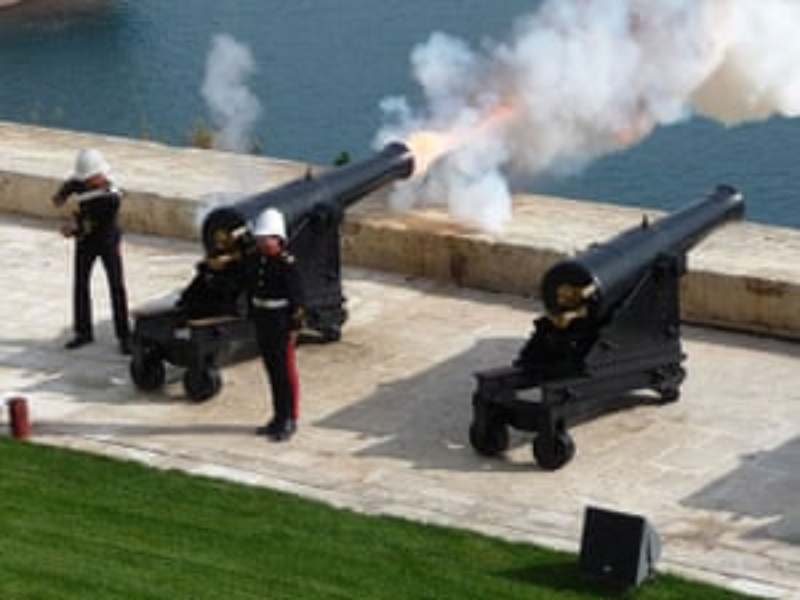smoke: (386, 3, 798, 164)
